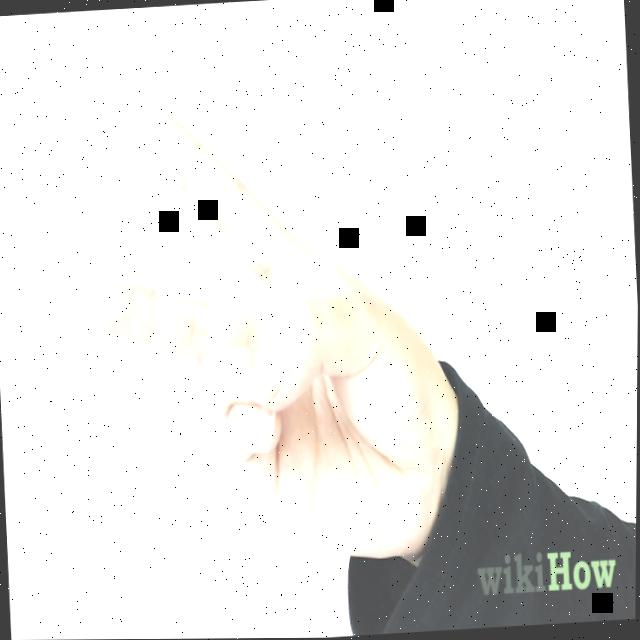Scissors: (83, 94, 460, 578)
